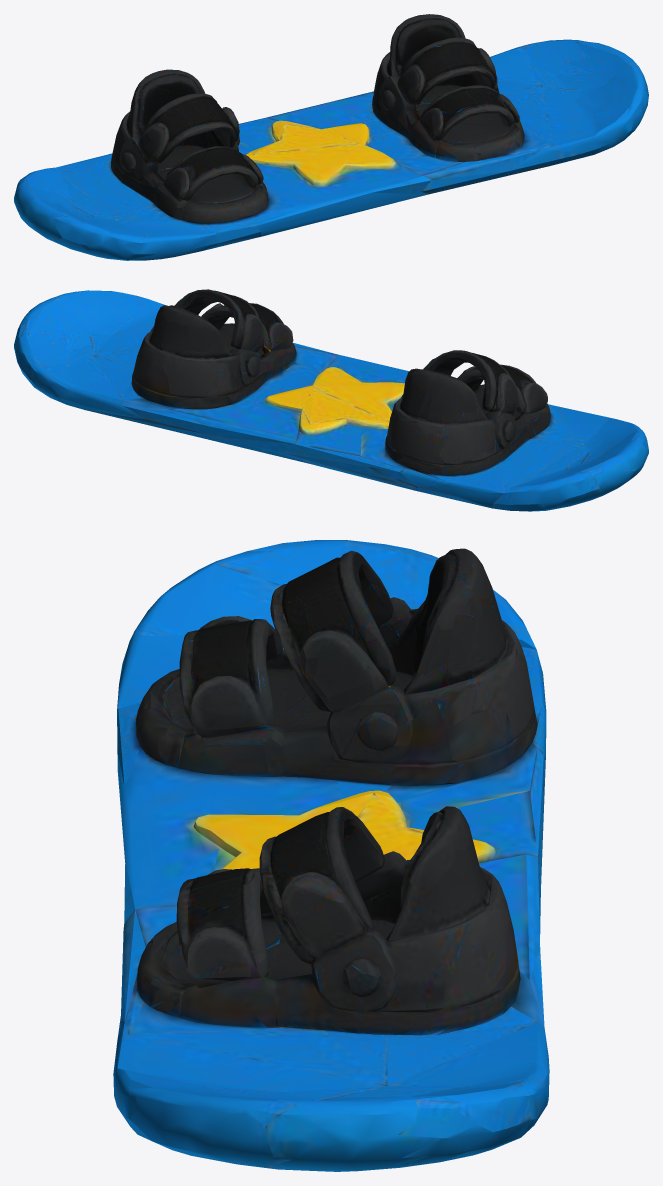
The model's file is udstyr-snowboard.glb.
3 renders of one model, top to bottom at view 1: azimuth 30°, elevation 25°; view 2: azimuth 150°, elevation 25°; view 3: azimuth 270°, elevation 25°, orthographic. The views are drawn at different scales.
Bounding box in the file's own units: 1.9 × 0.3277 × 0.5944.
1 material, 1 textured.
